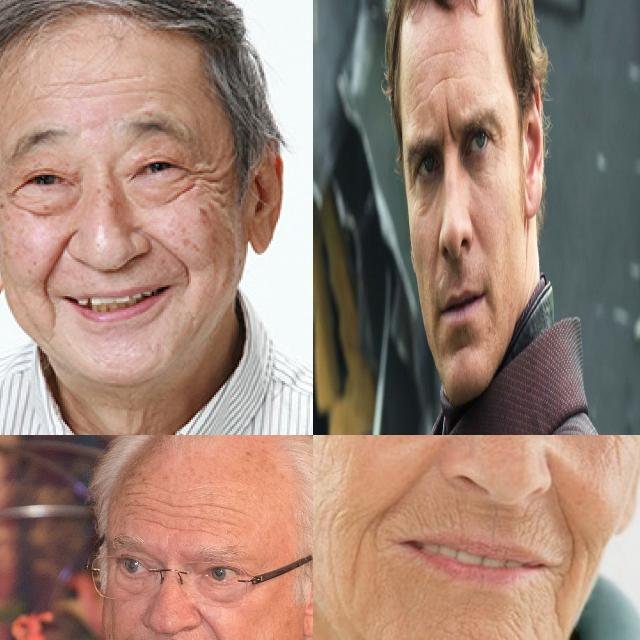crows_feet: (180, 160, 227, 202), (407, 174, 419, 212), (493, 124, 502, 154)
forehead: (47, 72, 126, 104), (126, 476, 170, 530), (184, 499, 232, 541), (424, 43, 457, 63), (434, 66, 458, 87)
frown_line: (0, 182, 21, 212), (444, 102, 457, 144)
gummy_smile: (377, 448, 431, 514), (550, 474, 584, 556), (36, 238, 74, 290), (160, 238, 198, 286), (201, 606, 229, 640)
masseter: (609, 435, 634, 471), (107, 620, 127, 640)
sad_smile: (344, 518, 374, 578), (546, 580, 568, 632)
smoker_lines: (412, 496, 468, 532), (511, 511, 555, 543)
